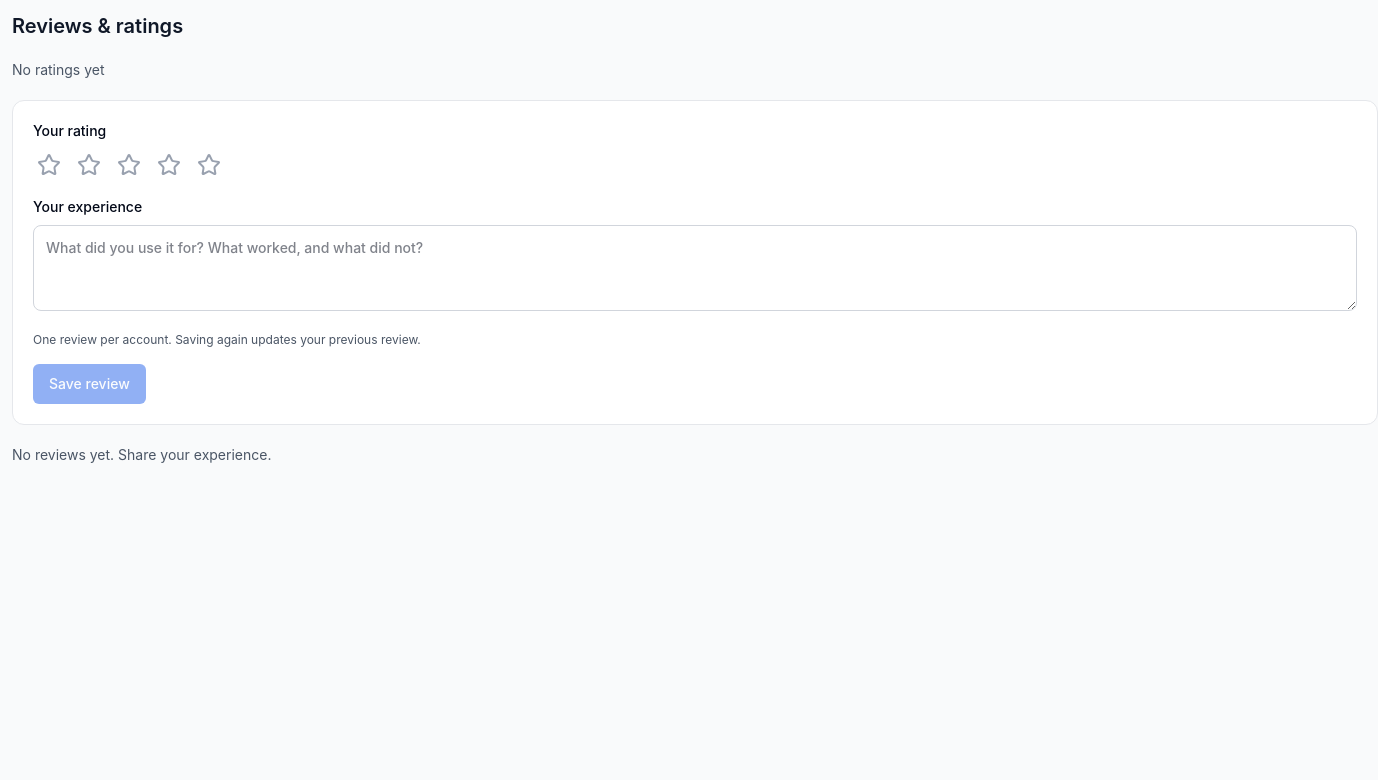
Test: saves a review then refreshes the real aggregate
Expected: the text "No ratings yet" is shown, [12,61,104,78]
Click the button named "4 stars" at (169, 165), box [153,149,185,181]
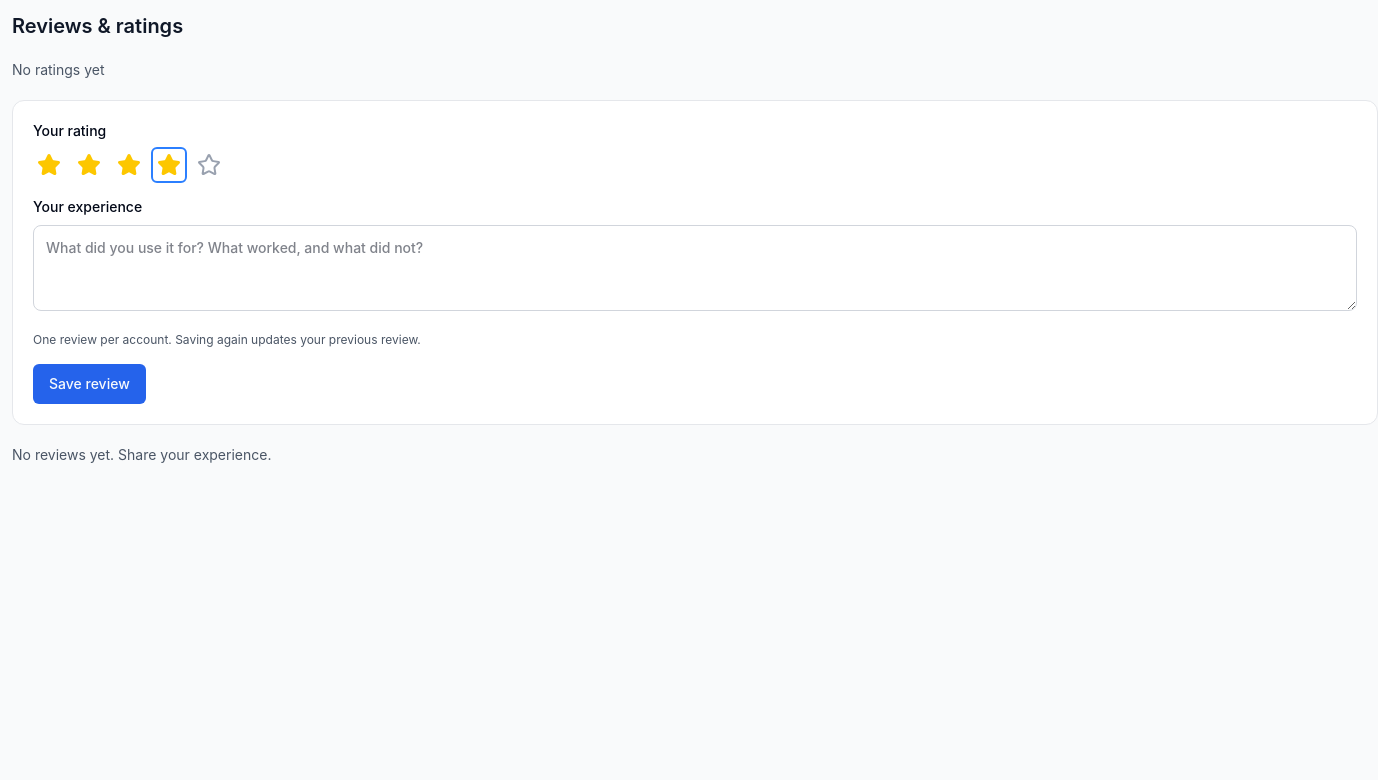
Type "Good for code review" into the text box labelled "Your experience" at (695, 268), box [33,225,1357,311]
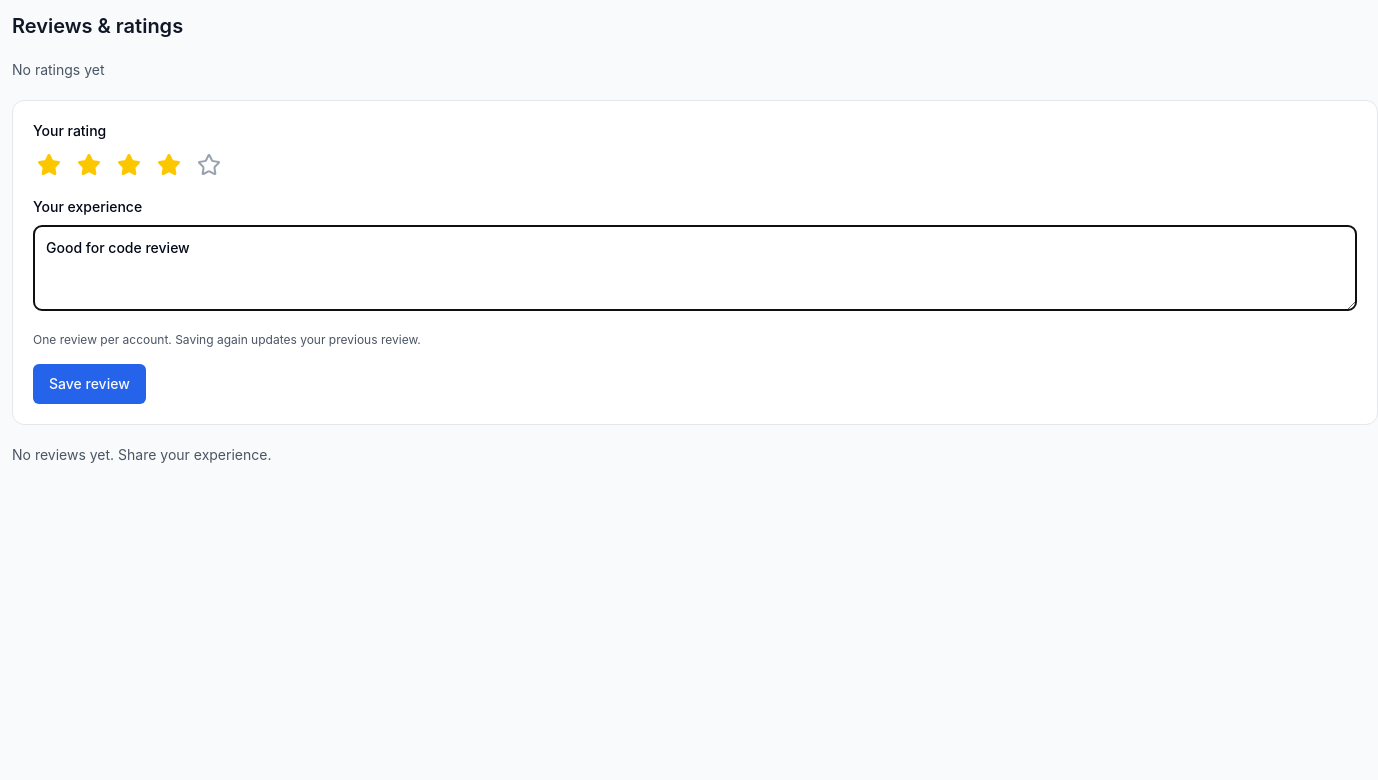
Click the button "Save review" at (89, 384), box [33,364,146,404]
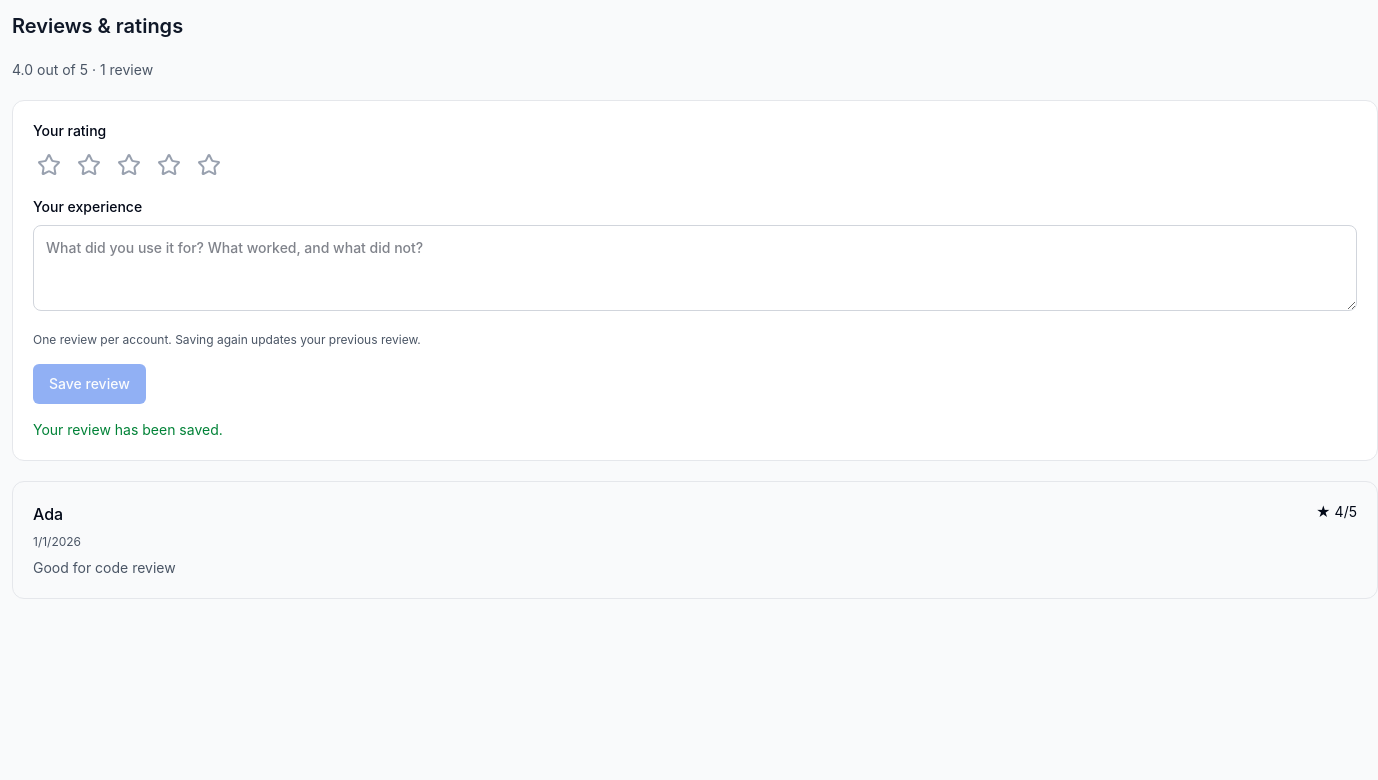
Now the text "4.0 out of 5 · 1 review" is shown, box [12,61,153,78]
